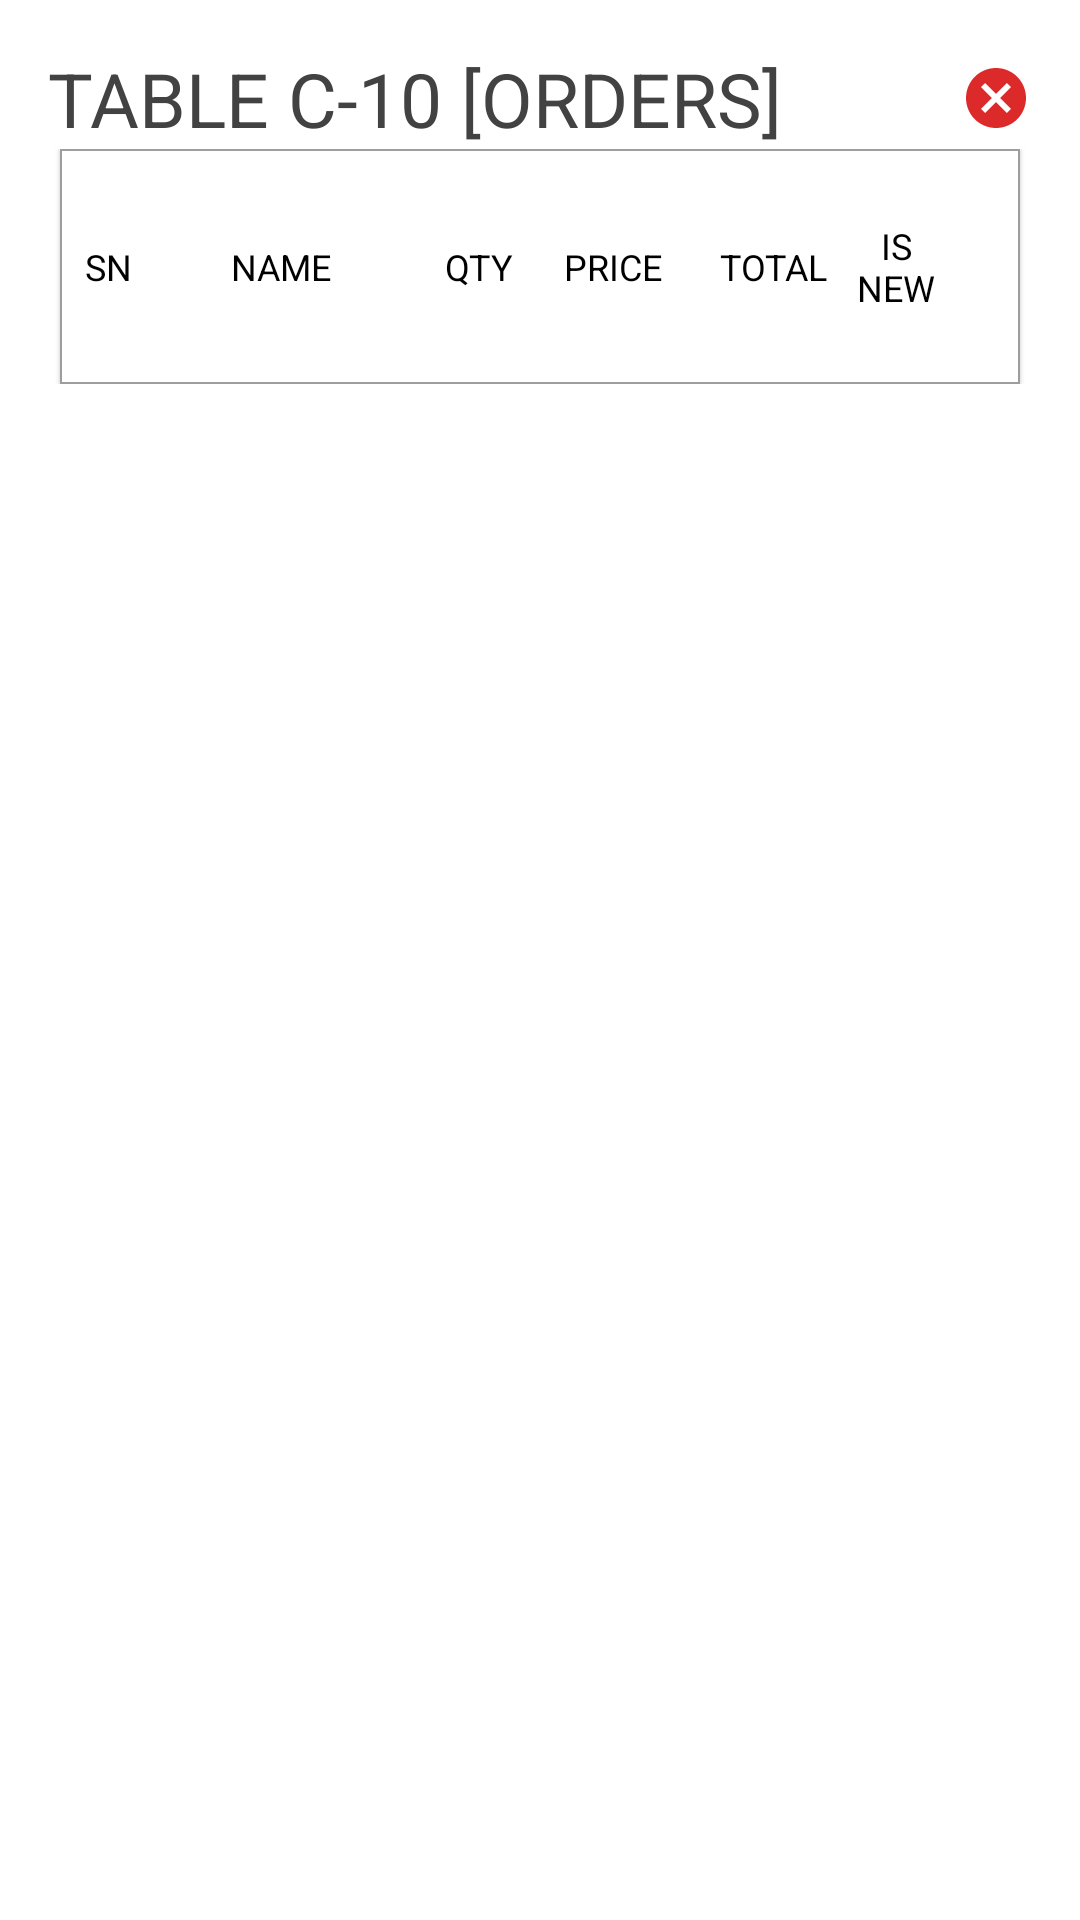

Named icons in this screenshot (1080 × 1920) and their bounding boxes, (x1, y1, x2, y2):
close circle: (966, 68, 1026, 128)
